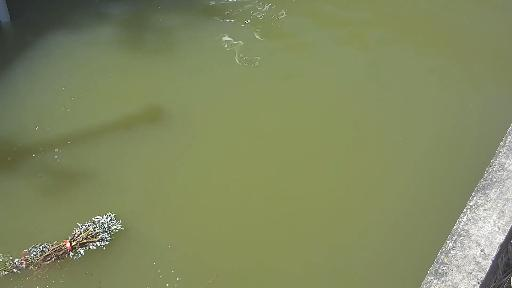twig: (0, 208, 128, 276)
